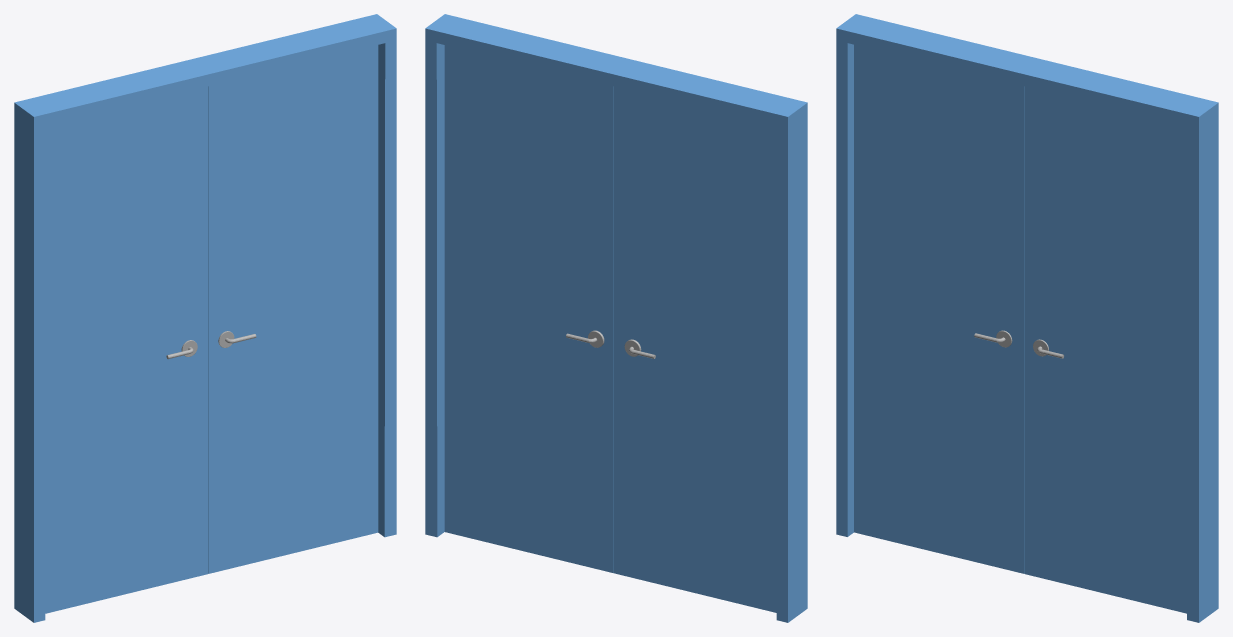
The model's file is men.FBX.
The picture shows the model from 3 angles, left to right: view 1: azimuth 30°, elevation 25°; view 2: azimuth 150°, elevation 25°; view 3: azimuth 330°, elevation 25°; orthographic projection.
Visible parts, largest first — view 1: men, menbashou; view 2: men, menbashou; view 3: men, menbashou.
Boxes of the visible parts, <box> form: men: <box>14,14,396,622</box>; menbashou: <box>166,331,256,359</box>; men: <box>425,14,807,622</box>; menbashou: <box>566,330,655,358</box>; men: <box>836,14,1218,622</box>; menbashou: <box>974,330,1063,358</box>.
Size of the model in its own units: 1.5 by 2 by 0.1414.
